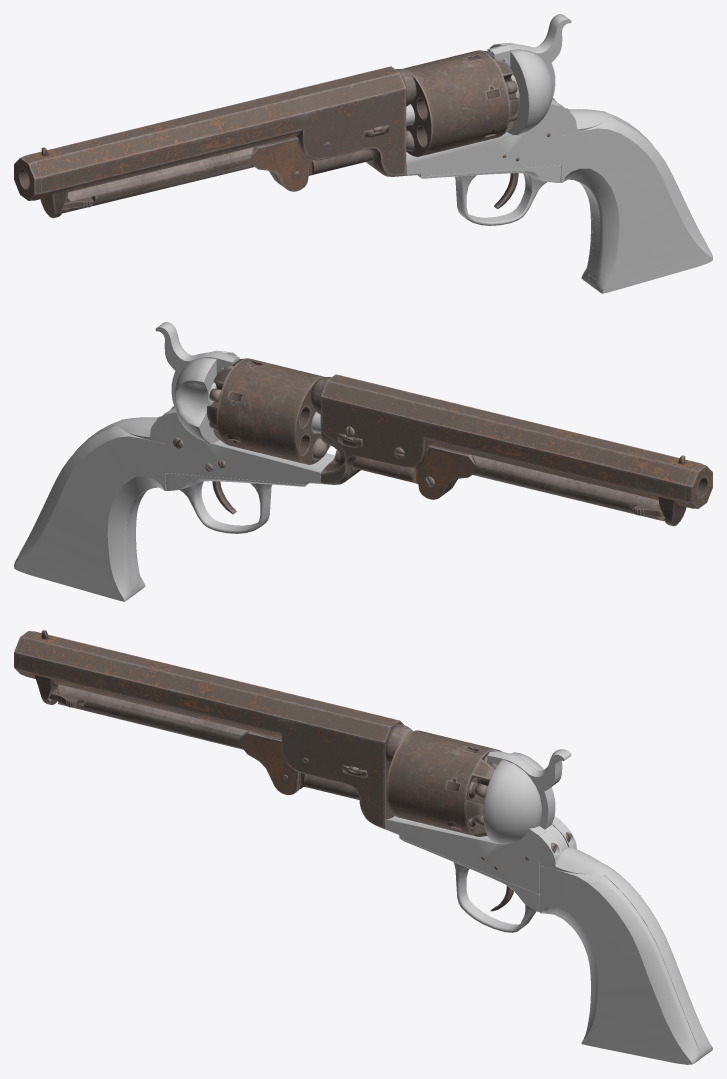
File: colt-1851.FBX
3 views of the same model, one above another, from view 1: azimuth 30°, elevation 25°; view 2: azimuth 150°, elevation 25°; view 3: azimuth 330°, elevation 25° (orthographic).
Parts seen in each view (by area): view 1: Barrel_LP, Grip_LP, Cylinder_LP, Frame_LP, LoadingLever_LP, TriggerGuard_LP, Hammer_LP, Tang_LP, LoadingPlunger_LP; view 2: Barrel_LP, Grip_LP, Cylinder_LP, Frame_LP, LoadingLever_LP, TriggerGuard_LP, Hammer_LP, Tang_LP, LoadingPlunger_LP; view 3: Barrel_LP, Grip_LP, Frame_LP, Cylinder_LP, LoadingLever_LP, Tang_LP, Hammer_LP, TriggerGuard_LP, LoadingPlunger_LP.
Boxes of the visible parts, bbox=[...] form: Barrel_LP: bbox=[14, 66, 416, 218]; Grip_LP: bbox=[560, 117, 712, 293]; Cylinder_LP: bbox=[402, 50, 520, 156]; Frame_LP: bbox=[404, 42, 561, 176]; LoadingLever_LP: bbox=[62, 137, 311, 213]; TriggerGuard_LP: bbox=[417, 165, 599, 279]; Hammer_LP: bbox=[487, 14, 571, 102]; Tang_LP: bbox=[552, 99, 653, 288]; LoadingPlunger_LP: bbox=[275, 149, 373, 182]; Barrel_LP: bbox=[310, 374, 712, 526]; Grip_LP: bbox=[14, 425, 166, 601]; Cylinder_LP: bbox=[206, 358, 329, 464]; Frame_LP: bbox=[165, 350, 335, 484]; LoadingLever_LP: bbox=[415, 445, 664, 521]; TriggerGuard_LP: bbox=[127, 473, 309, 587]; Hammer_LP: bbox=[155, 322, 239, 410]; Tang_LP: bbox=[73, 407, 174, 596]; LoadingPlunger_LP: bbox=[335, 450, 451, 490]; Barrel_LP: bbox=[14, 630, 412, 829]; Grip_LP: bbox=[540, 863, 712, 1064]; Frame_LP: bbox=[385, 752, 560, 894]; Cylinder_LP: bbox=[386, 730, 501, 836]; LoadingLever_LP: bbox=[58, 684, 303, 794]; Tang_LP: bbox=[539, 820, 707, 1058]; Hammer_LP: bbox=[487, 749, 571, 851]; TriggerGuard_LP: bbox=[399, 838, 539, 932]; LoadingPlunger_LP: bbox=[300, 773, 359, 799].
Bounding box in the file's own units: 46.56 × 18.23 × 5.43.
